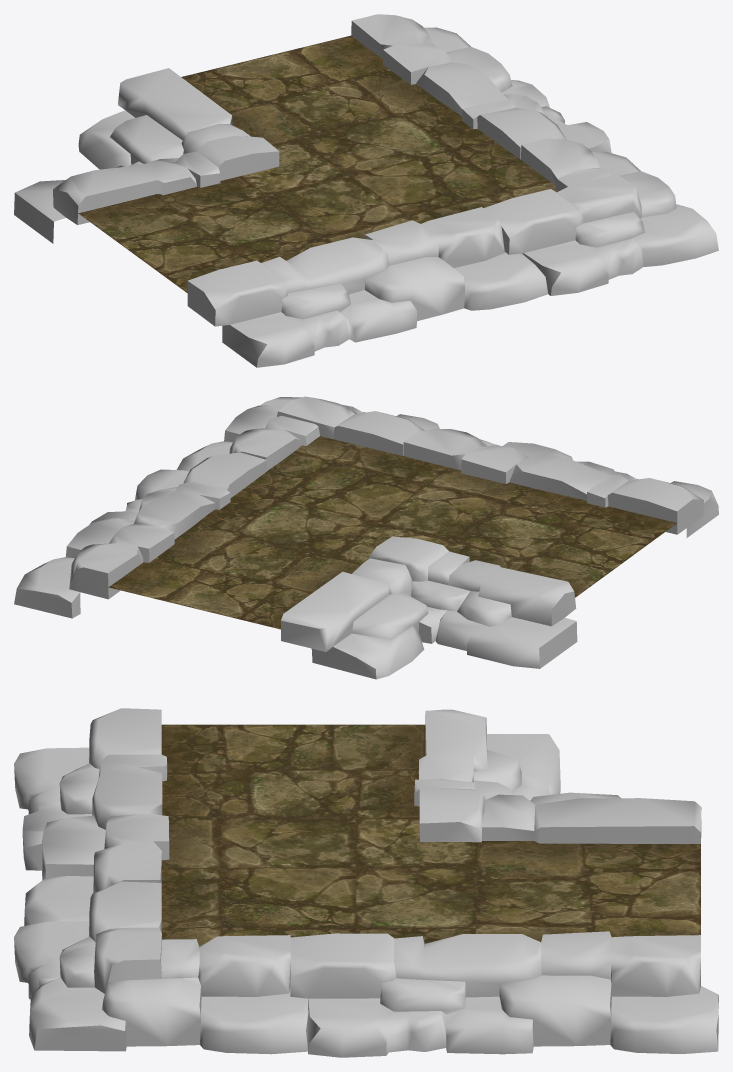
File: Road_Corner_01.fbx
3 renders of one model, top to bottom at view 1: azimuth 30°, elevation 25°; view 2: azimuth 150°, elevation 25°; view 3: azimuth 270°, elevation 25°, orthographic. The views are drawn at different scales.
Parts seen in each view (by area): view 1: Road_Corner_01_LOD0; view 2: Road_Corner_01_LOD0; view 3: Road_Corner_01_LOD0.
Boxes of the visible parts, x1=… form: Road_Corner_01_LOD0: x1=14, y1=14, x2=718, y2=367; Road_Corner_01_LOD0: x1=14, y1=396, x2=718, y2=679; Road_Corner_01_LOD0: x1=14, y1=708, x2=718, y2=1057.
Size of what is drawn, in the model's own units: 5.16 by 5.15 by 0.539.
